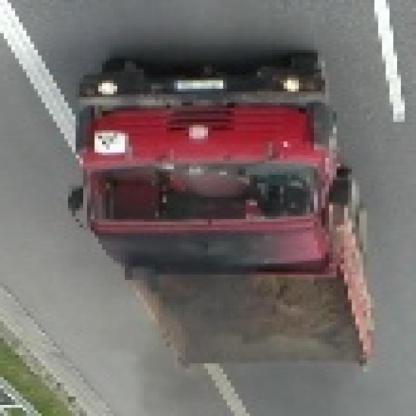truck: (66, 48, 380, 373)
